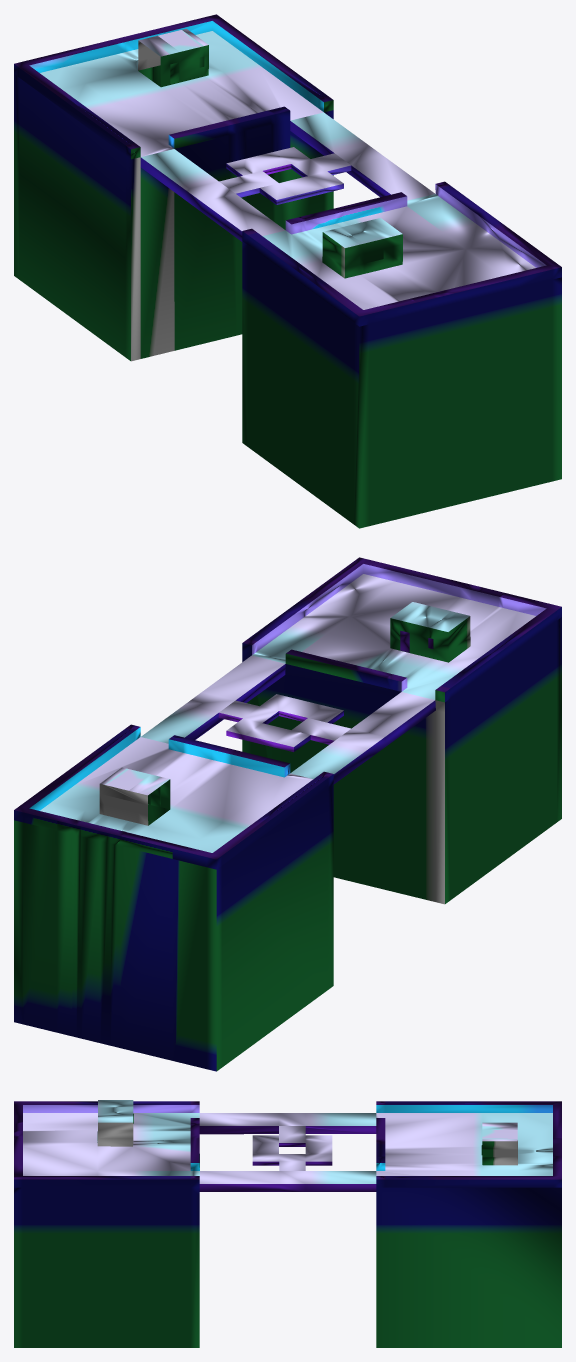
File: 3D_Map_RoofTop.fbx
The picture shows the model from 3 angles, top to bottom: view 1: azimuth 30°, elevation 25°; view 2: azimuth 150°, elevation 25°; view 3: azimuth 270°, elevation 25°; orthographic projection. The views are drawn at different scales.
Parts seen in each view (by area): view 1: GEO_RoofTop; view 2: GEO_RoofTop; view 3: GEO_RoofTop.
Boxes of the visible parts, box(x1,y1,x2,y2) form: GEO_RoofTop: box(14, 14, 561, 528); GEO_RoofTop: box(14, 557, 561, 1071); GEO_RoofTop: box(14, 1100, 561, 1347).
Size of the model in its own units: 21 by 62 by 23.
